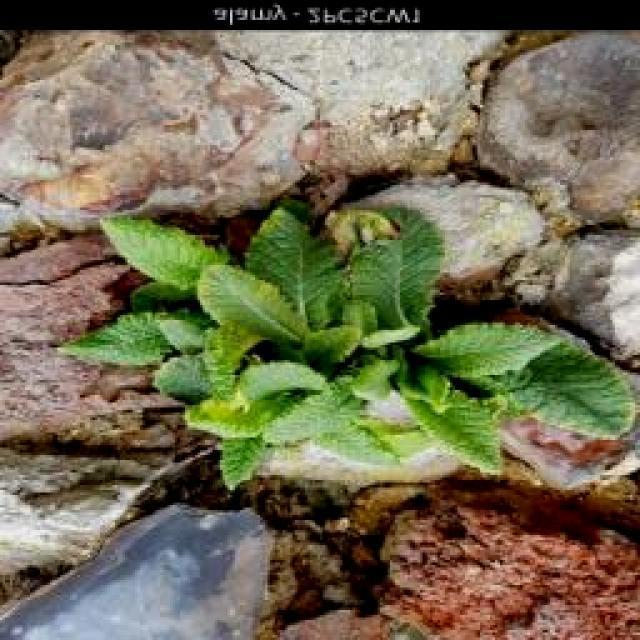Crack: (1, 30, 638, 635)
